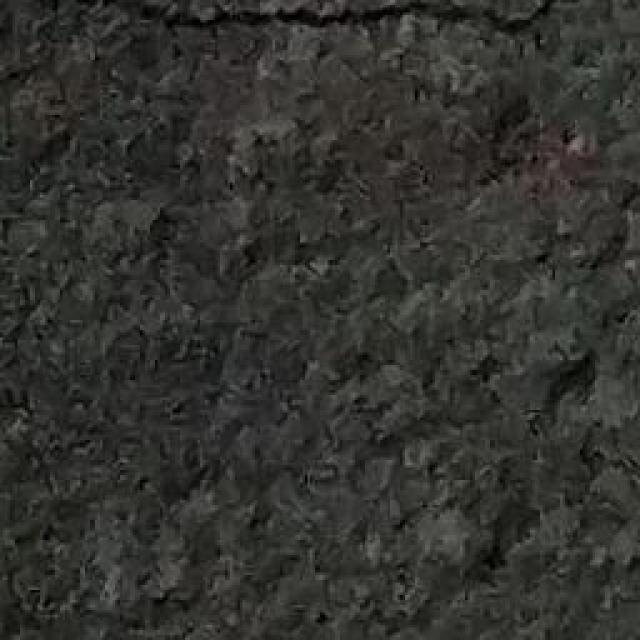Transverse: (127, 0, 578, 54)
